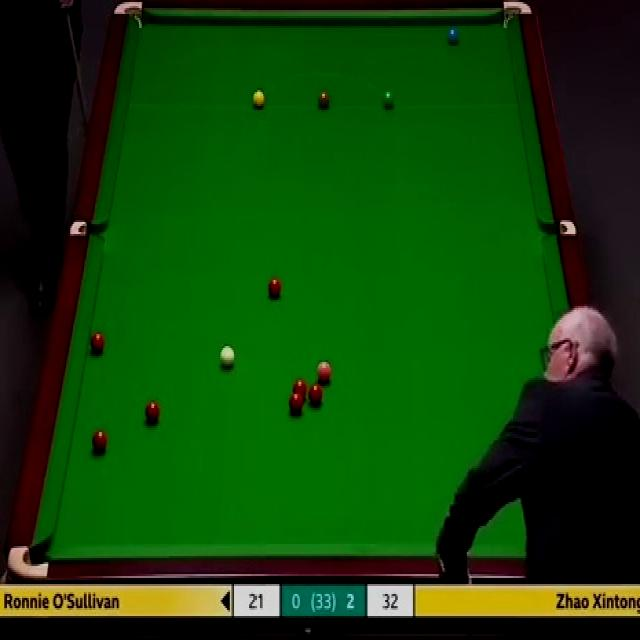pocket: (7, 546, 49, 583), (110, 0, 144, 29), (502, 0, 534, 28), (67, 220, 108, 237), (538, 220, 572, 235)
